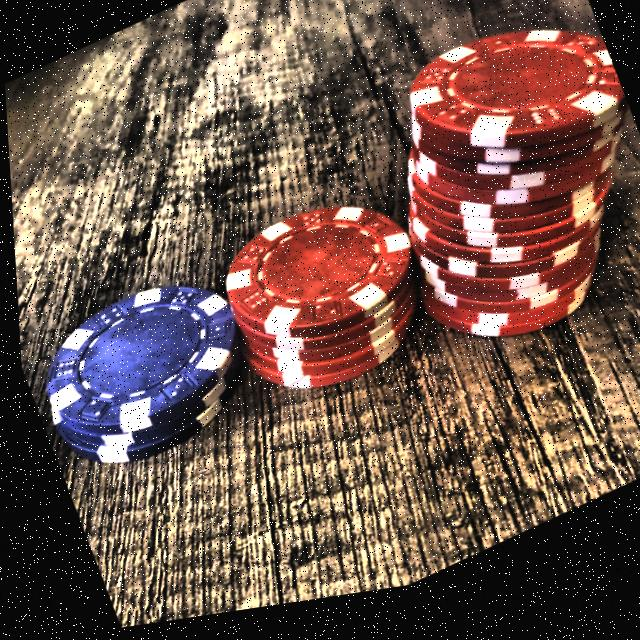Chip: (340, 0, 640, 399), (195, 172, 446, 434), (13, 253, 268, 500)
